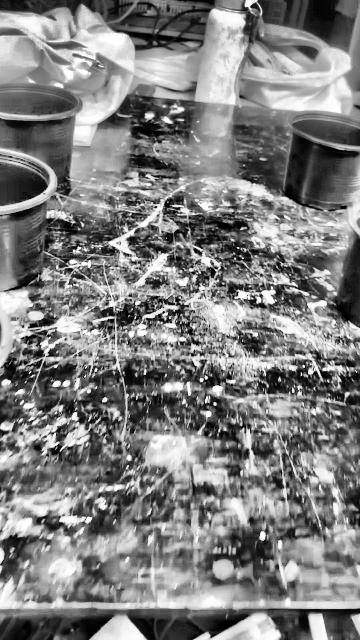pot: (0, 82, 82, 205), (0, 149, 57, 291), (287, 111, 360, 210), (337, 208, 359, 326)
